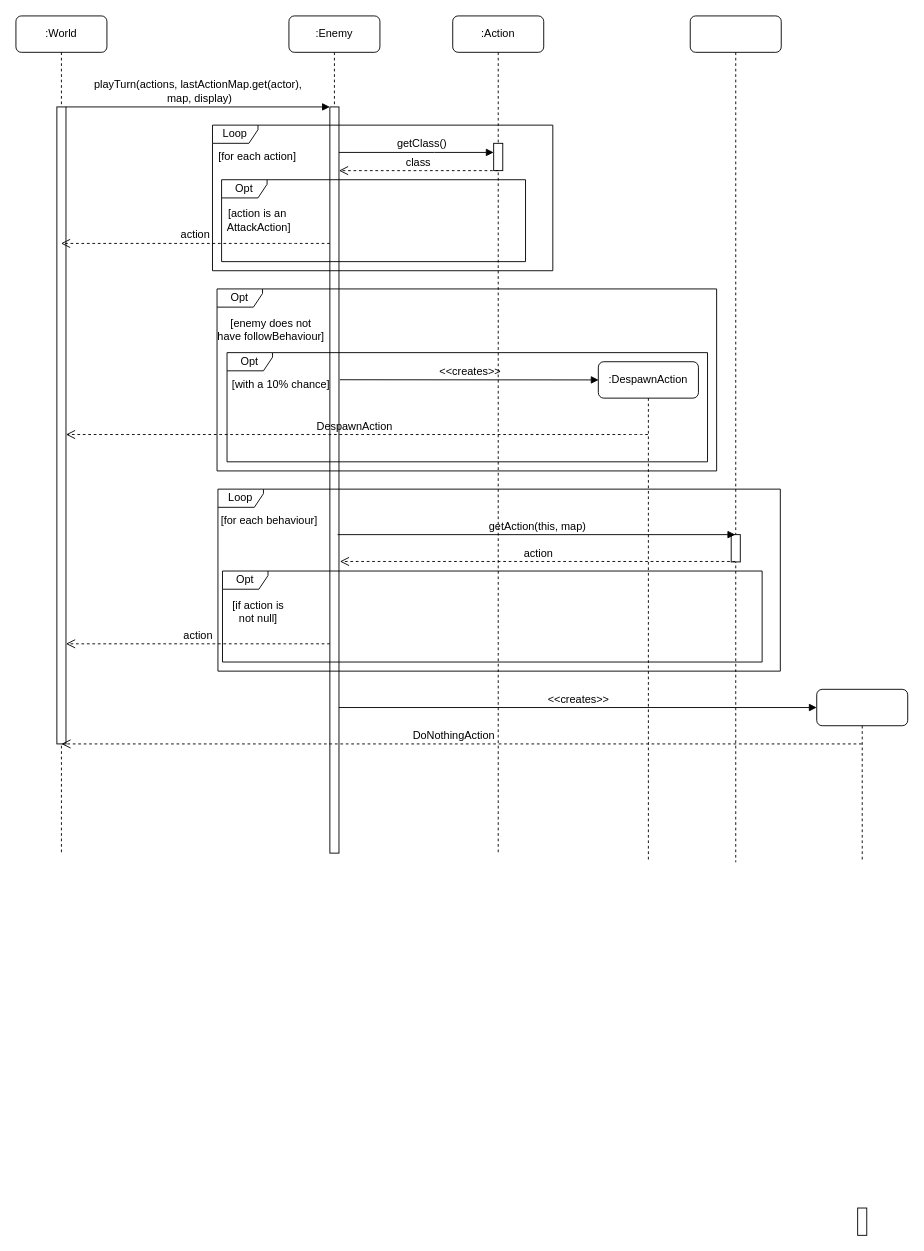
Some shapes in this 924 by 1251 pixel diagram are drawn without their labels. Each missing label, with the box of its shape:
:Behaviour: (689, 15, 781, 862)
:DoNothingAction: (816, 688, 908, 862)
